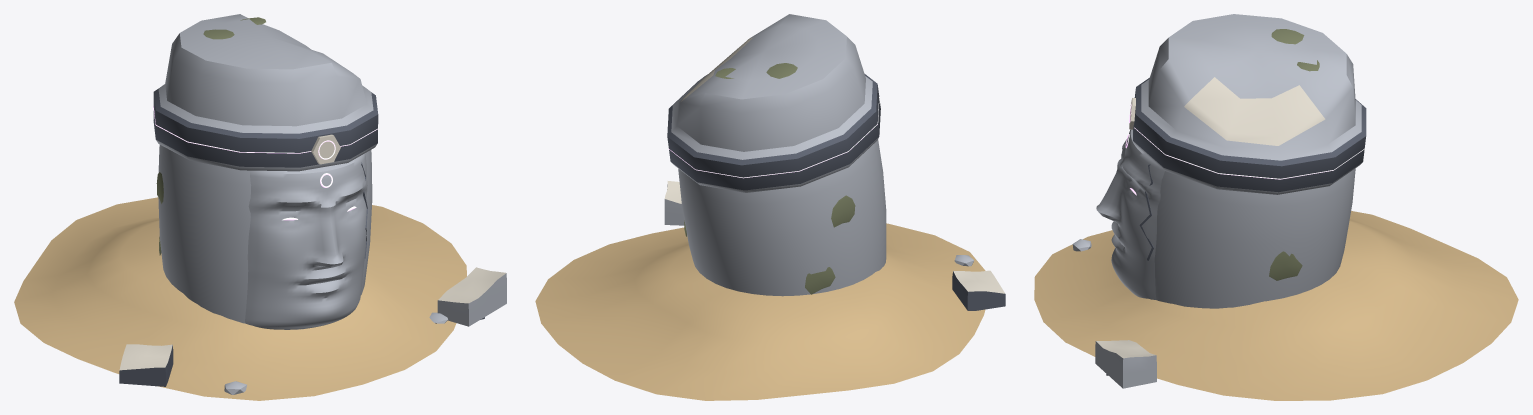
The model's file is deco_colossal_head.fbx.
3 views of the same model, side by side, from view 1: azimuth 30°, elevation 25°; view 2: azimuth 150°, elevation 25°; view 3: azimuth 270°, elevation 25° (orthographic). The views are drawn at different scales.
Parts seen in each view (by area): view 1: ColossalHead_Head, ColossalHead_Rubble; view 2: ColossalHead_Rubble, ColossalHead_Head; view 3: ColossalHead_Head, ColossalHead_Rubble.
Part boxes in pixels (x1,y1,x2,y2): ColossalHead_Head: (153, 14, 378, 329); ColossalHead_Rubble: (14, 197, 506, 400); ColossalHead_Rubble: (535, 181, 1005, 400); ColossalHead_Head: (667, 14, 886, 296); ColossalHead_Head: (1096, 14, 1366, 308); ColossalHead_Rubble: (1034, 211, 1518, 400).
Bounding box in the file's own units: 497 × 338 × 520.
